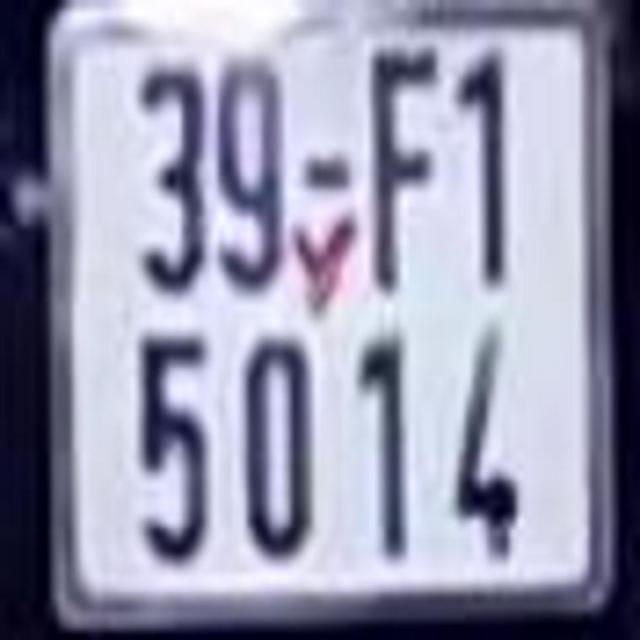0: (238, 322, 316, 569)
1: (452, 42, 518, 288), (353, 323, 418, 562)
3: (138, 50, 208, 289)
4: (448, 316, 523, 570)
5: (135, 324, 209, 567)
9: (214, 47, 285, 299)
F: (362, 40, 445, 291)
